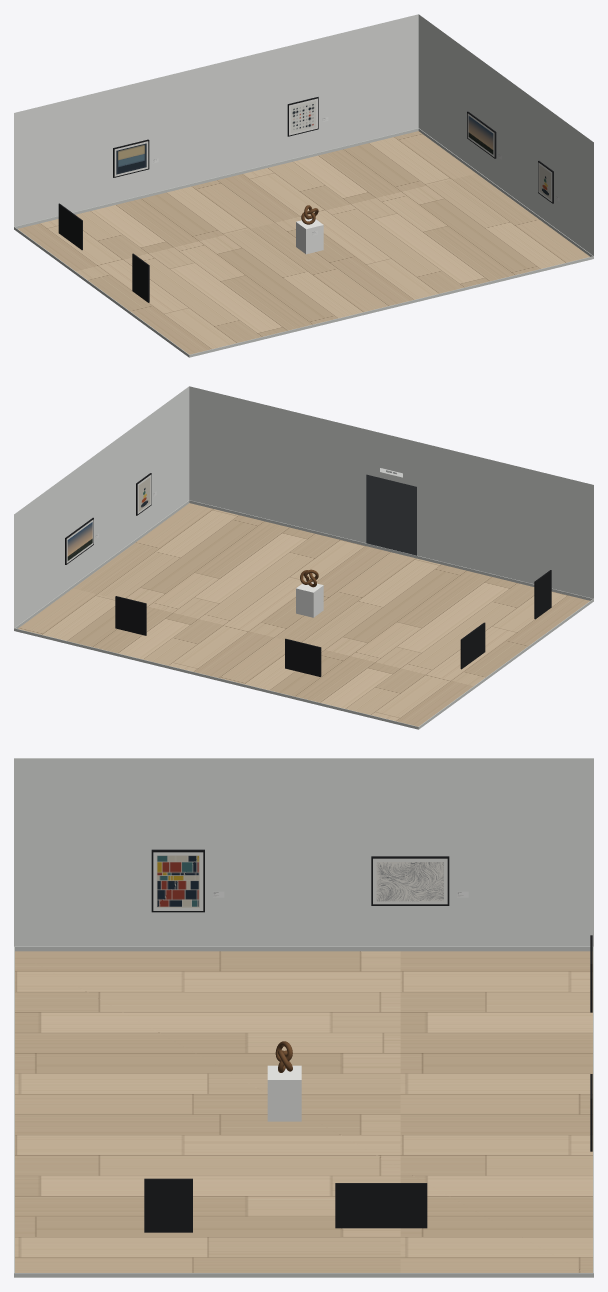
The model's file is room-one.glb.
The picture shows the model from 3 angles, top to bottom: view 1: azimuth 30°, elevation 25°; view 2: azimuth 150°, elevation 25°; view 3: azimuth 270°, elevation 25°; orthographic projection. The views are drawn at different scales.
Visible parts, largest first — view 1: Room_Floor, Room_Surface, Room_Surface_3, Room_Skirting_2, Room_Skirting, Cat07_Knot_for_a_Quiet_Room_Plinth, Cat03_Drift_Frame, Cat01_Low_Tide_Second_Hour_Canvas, Cat04_Interval_Frame, Cat02_Field_Notes_Grid_7_Canvas, Room_Skirting_4, Room_Skirting_3 (+1 smaller); view 2: Room_Floor, Room_Surface_4, Room_Surface_3, Room_Surface_5, Room_Skirting, Room_Skirting_2, Cat01_Low_Tide_Second_Hour_Frame, Cat02_Field_Notes_Grid_7_Frame, Cat07_Knot_for_a_Quiet_Room_Plinth, Cat03_Drift_Frame, Cat04_Interval_Frame, Room_Skirting_3 (+2 smaller); view 3: Room_Floor, Room_Surface_2, Cat05_Saltmarsh_Evening_Frame, Room_Skirting_3, Room_Skirting_4, Cat03_Drift_Canvas, Cat06_Counterweight_Frame, Cat04_Interval_Canvas, Cat07_Knot_for_a_Quiet_Room_Plinth, Cat03_Drift_Mat, Cat04_Interval_Mat.
Boxes of the visible parts, x1=… form: Room_Floor: x1=18, y1=131, x2=589, y2=354; Room_Surface: x1=14, y1=14, x2=418, y2=226; Room_Surface_3: x1=418, y1=14, x2=593, y2=255; Room_Skirting_2: x1=189, y1=256, x2=593, y2=357; Room_Skirting: x1=14, y1=128, x2=418, y2=229; Cat07_Knot_for_a_Quiet_Room_Plinth: x1=296, y1=218, x2=323, y2=254; Cat03_Drift_Frame: x1=58, y1=203, x2=82, y2=250; Cat01_Low_Tide_Second_Hour_Canvas: x1=116, y1=143, x2=146, y2=174; Cat04_Interval_Frame: x1=132, y1=253, x2=149, y2=302; Cat02_Field_Notes_Grid_7_Canvas: x1=291, y1=101, x2=315, y2=133; Room_Skirting_4: x1=418, y1=128, x2=593, y2=258; Room_Skirting_3: x1=14, y1=227, x2=188, y2=357; Room_Floor: x1=18, y1=503, x2=589, y2=726; Room_Surface_4: x1=189, y1=386, x2=593, y2=598; Room_Surface_3: x1=14, y1=386, x2=189, y2=627; Room_Surface_5: x1=366, y1=474, x2=416, y2=555; Room_Skirting: x1=14, y1=628, x2=418, y2=729; Room_Skirting_2: x1=189, y1=500, x2=593, y2=600; Cat01_Low_Tide_Second_Hour_Frame: x1=285, y1=638, x2=321, y2=676; Cat02_Field_Notes_Grid_7_Frame: x1=115, y1=596, x2=146, y2=635; Cat07_Knot_for_a_Quiet_Room_Plinth: x1=296, y1=581, x2=323, y2=617; Cat03_Drift_Frame: x1=460, y1=622, x2=485, y2=669; Cat04_Interval_Frame: x1=534, y1=570, x2=551, y2=619; Room_Skirting_3: x1=418, y1=599, x2=593, y2=729; Room_Floor: x1=15, y1=951, x2=592, y2=1272; Room_Surface_2: x1=14, y1=758, x2=593, y2=946; Cat05_Saltmarsh_Evening_Frame: x1=335, y1=1183, x2=427, y2=1228; Room_Skirting_3: x1=15, y1=946, x2=592, y2=951; Room_Skirting_4: x1=14, y1=1273, x2=593, y2=1277; Cat03_Drift_Canvas: x1=376, y1=862, x2=443, y2=901; Cat06_Counterweight_Frame: x1=144, y1=1178, x2=192, y2=1232; Cat04_Interval_Canvas: x1=156, y1=855, x2=199, y2=907; Cat07_Knot_for_a_Quiet_Room_Plinth: x1=267, y1=1065, x2=301, y2=1121; Cat03_Drift_Mat: x1=373, y1=858, x2=447, y2=904; Cat04_Interval_Mat: x1=153, y1=852, x2=203, y2=910.
Size of the model in its own units: 16 by 4.4 by 12.
24 materials, 15 textured.
